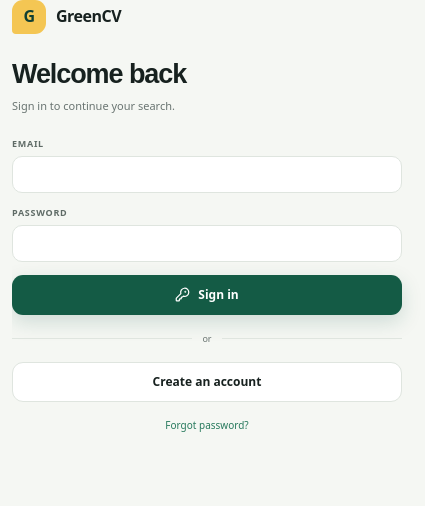
Test: AuthForm › recovers from a network failure and clears its pending state
Type "person@example.com" into the field labelled "Email" at (207, 174), box top-left (12, 156), bottom-right (402, 193)
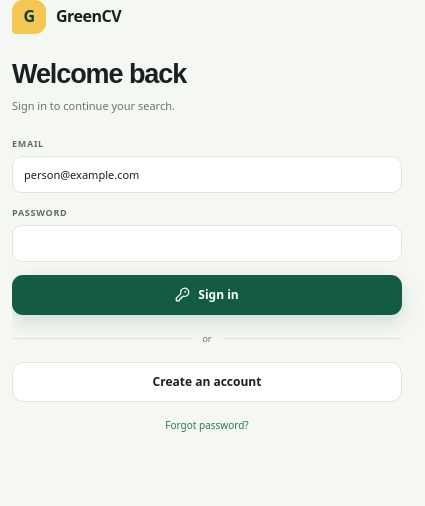
Type "a-secure-password" into the password field labelled "Password" at (207, 243), box top-left (12, 225), bottom-right (402, 262)
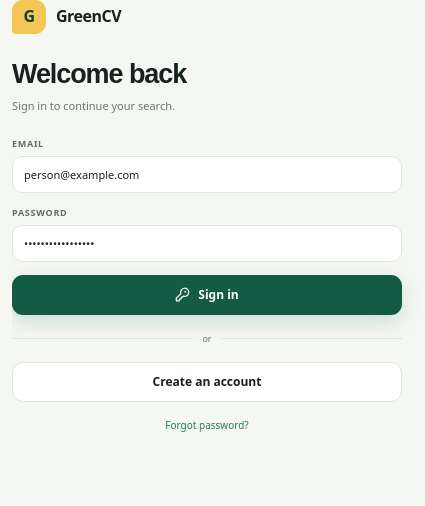
Submit the form labelled "Email"
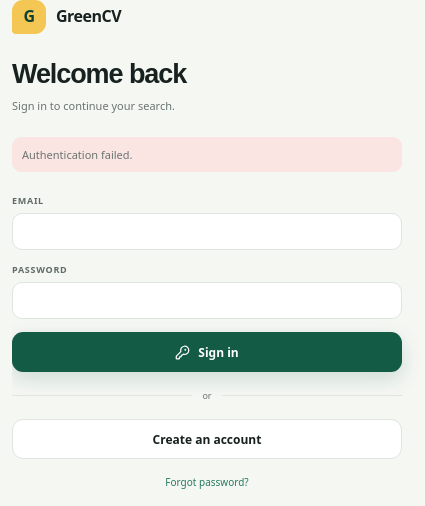
expect the button "Sign in" is enabled: met, box top-left (12, 332), bottom-right (402, 372)
expect the message reads "Authentication failed.": met, box top-left (22, 147), bottom-right (132, 162)
